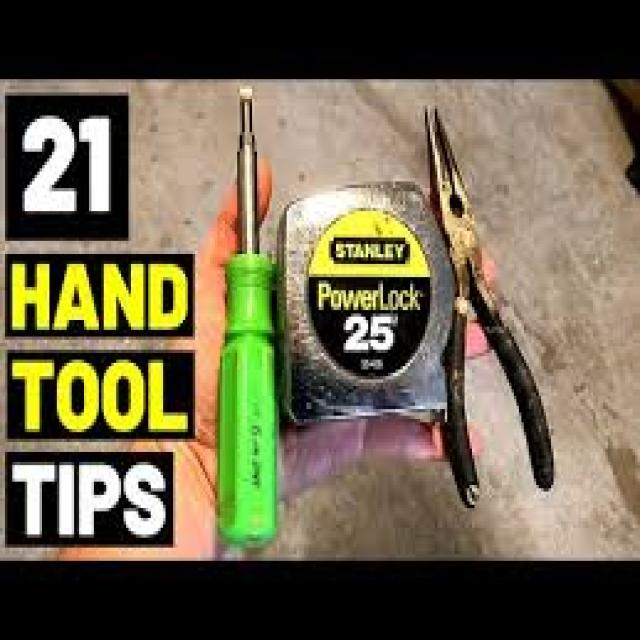Screwdriver: (217, 87, 277, 547)
